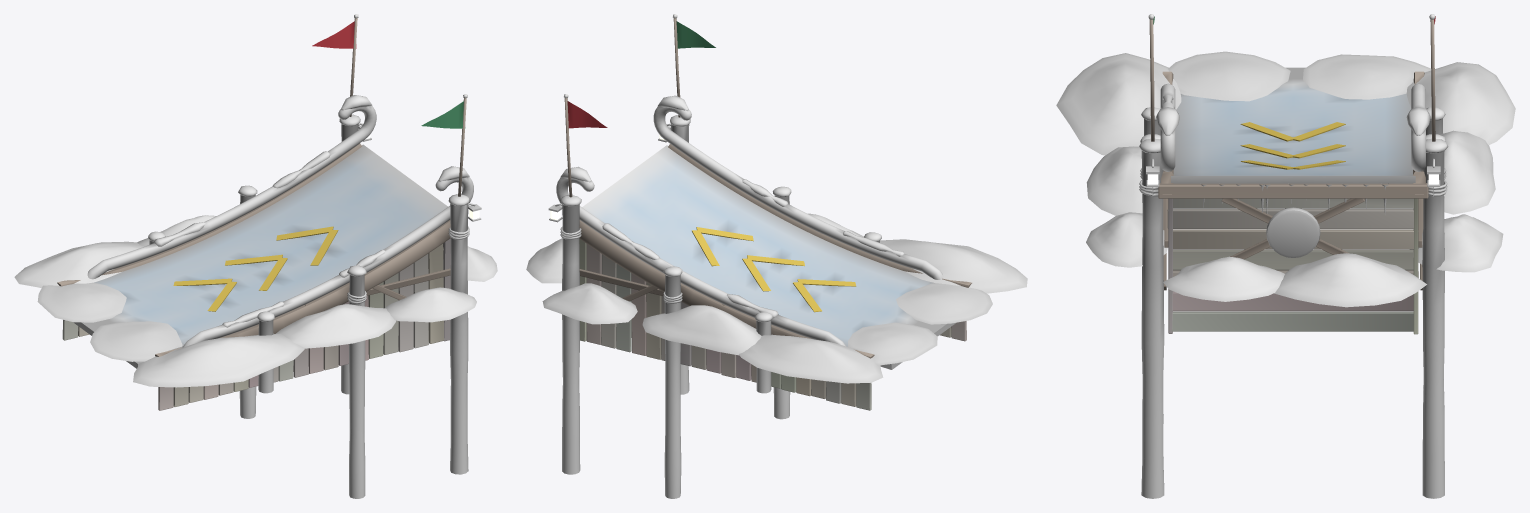
The model's file is ramp.glb.
The picture shows the model from 3 angles, left to right: view 1: azimuth 30°, elevation 25°; view 2: azimuth 150°, elevation 25°; view 3: azimuth 270°, elevation 25°; orthographic projection. The views are drawn at different scales.
Parts seen in each view (by area): view 1: ramp_ice, ramp_snow, ramp_wood, ramp_log, ramp_candy, ramp_ribbon; view 2: ramp_ice, ramp_snow, ramp_wood, ramp_log, ramp_candy, ramp_ribbon; view 3: ramp_snow, ramp_wood, ramp_ice, ramp_log, ramp_mint, ramp_candy, ramp_ribbon.
Part boxes in pixels (left/top/right/bottom): ramp_ice: left=73, top=144, right=447, bottom=368; ramp_snow: left=14, top=95, right=497, bottom=387; ramp_wood: left=57, top=18, right=466, bottom=410; ramp_log: left=149, top=124, right=468, bottom=498; ramp_candy: left=87, top=106, right=473, bottom=347; ramp_ribbon: left=173, top=21, right=465, bottom=311; ramp_ice: left=582, top=145, right=955, bottom=369; ramp_snow: left=526, top=95, right=1027, bottom=383; ramp_wood: left=564, top=18, right=971, bottom=410; ramp_log: left=562, top=124, right=879, bottom=498; ramp_candy: left=556, top=106, right=943, bottom=346; ramp_ribbon: left=567, top=21, right=856, bottom=312; ramp_snow: left=1056, top=51, right=1515, bottom=307; ramp_wood: left=1149, top=19, right=1435, bottom=334; ramp_ice: left=1171, top=67, right=1415, bottom=214; ramp_log: left=1141, top=118, right=1444, bottom=498; ramp_mint: left=1266, top=207, right=1320, bottom=257; ramp_candy: left=1160, top=83, right=1425, bottom=171; ramp_ribbon: left=1153, top=16, right=1435, bottom=169.
Size of the model in its own units: 7.96 by 7.07 by 6.09.
